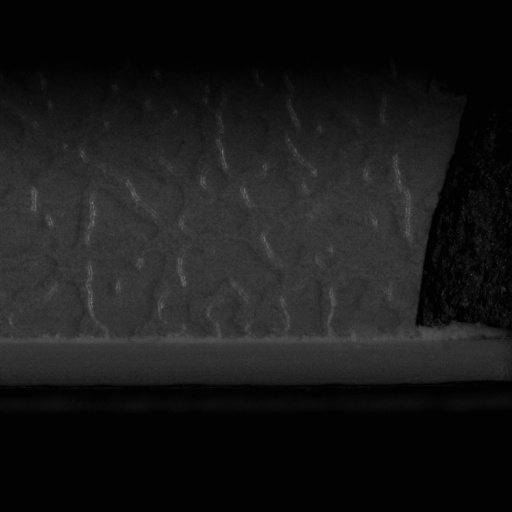bengque: (413, 65, 511, 328)
